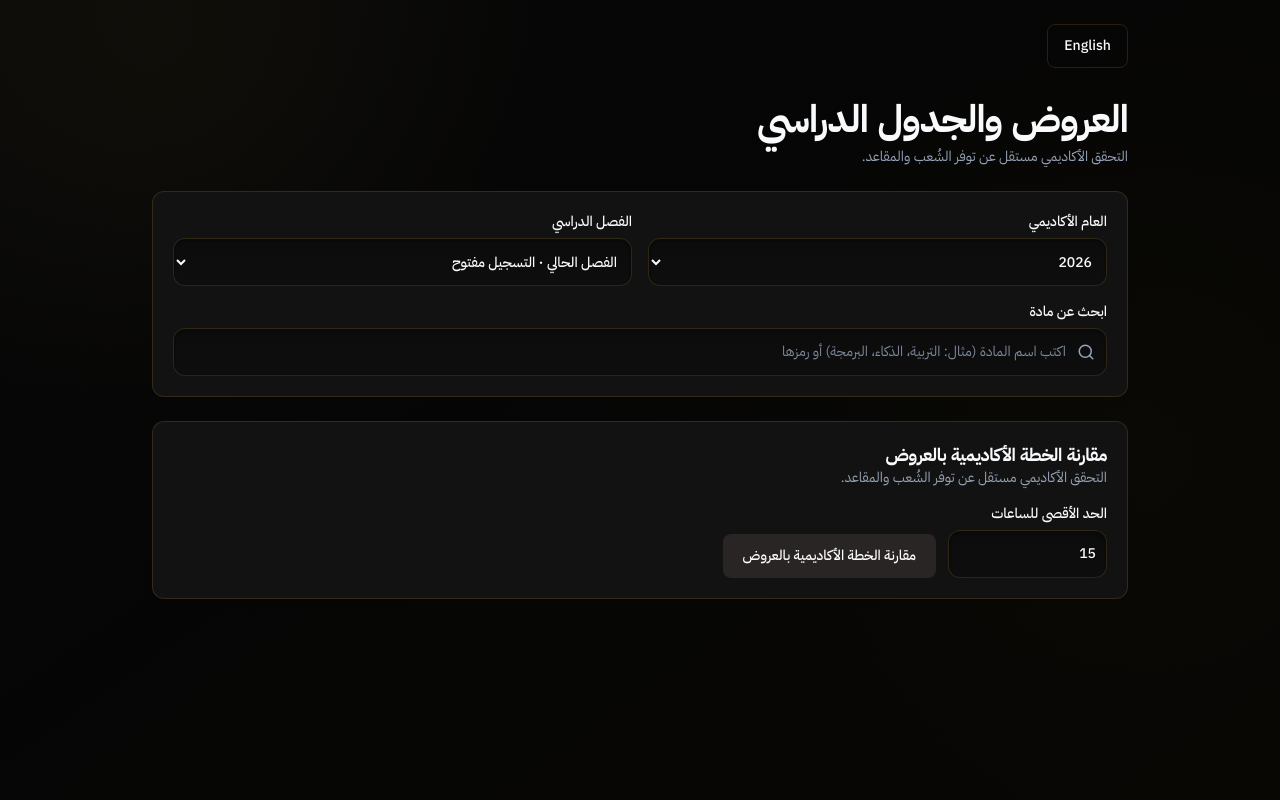
Test: past and future academic-year selections reload their tenant-scoped periods
The width and height of the screenshot is (1280, 800).
Select "2025" in the dropdown labelled "العام الأكاديمي": (878, 262) 648,238 -> 1107,286
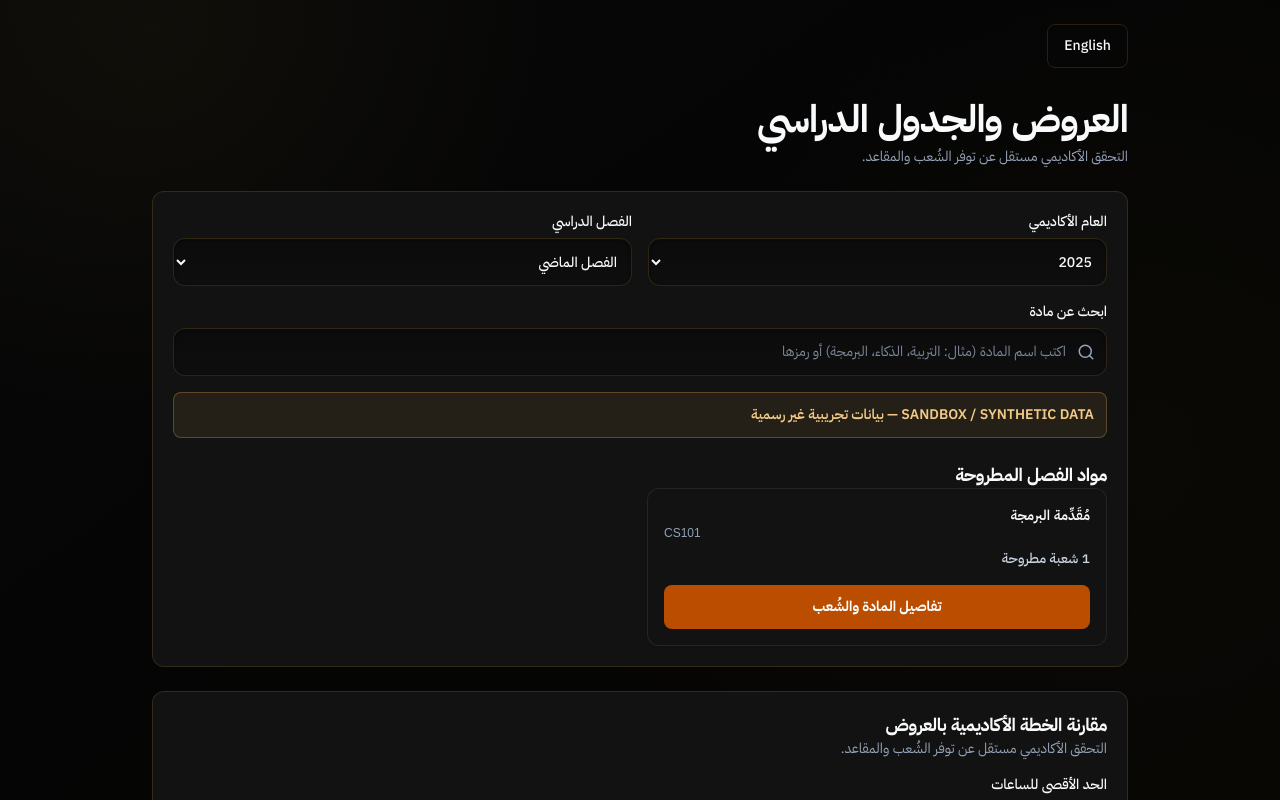
Check: the dropdown labelled "الفصل الدراسي" shows "الفصل الماضي", box 173,238 -> 632,286
Select "2027" in the dropdown labelled "العام الأكاديمي": (878, 262) 648,238 -> 1107,286
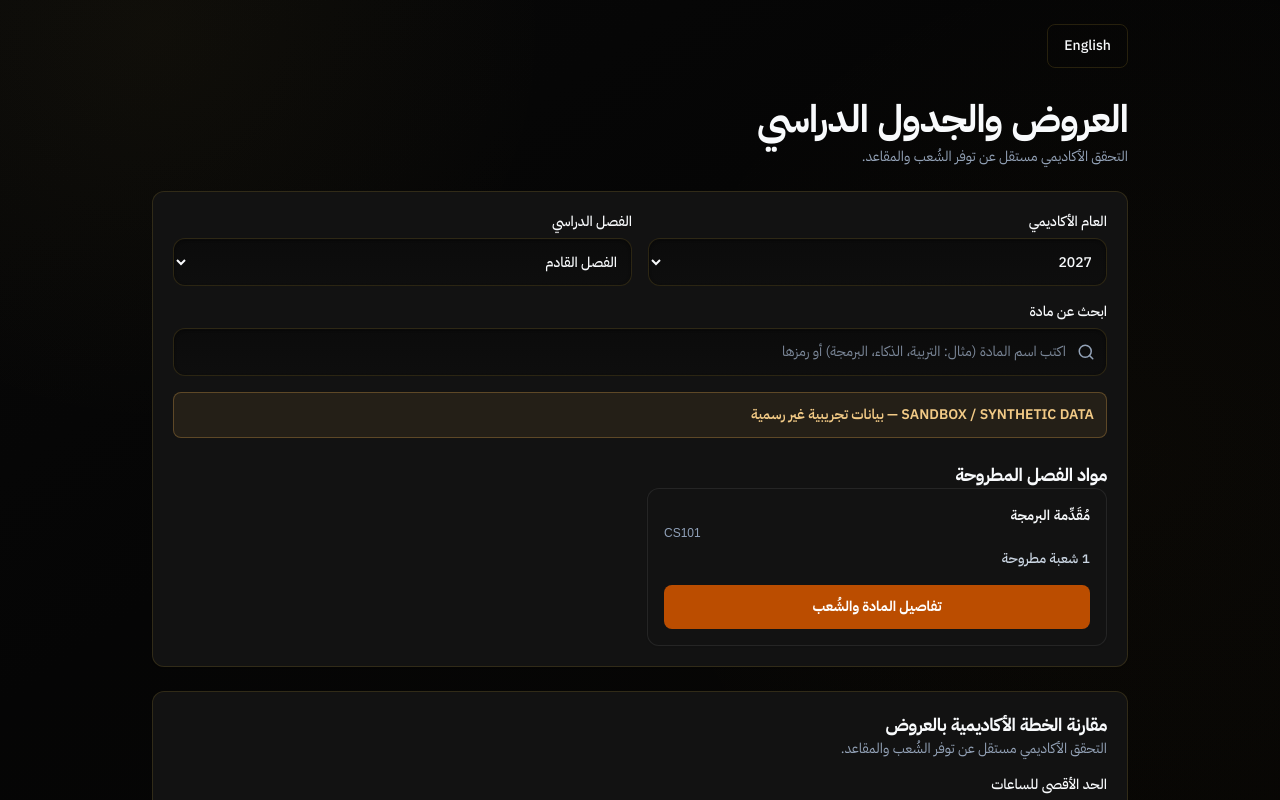
Check: the dropdown labelled "الفصل الدراسي" shows "الفصل القادم", box 173,238 -> 632,286
